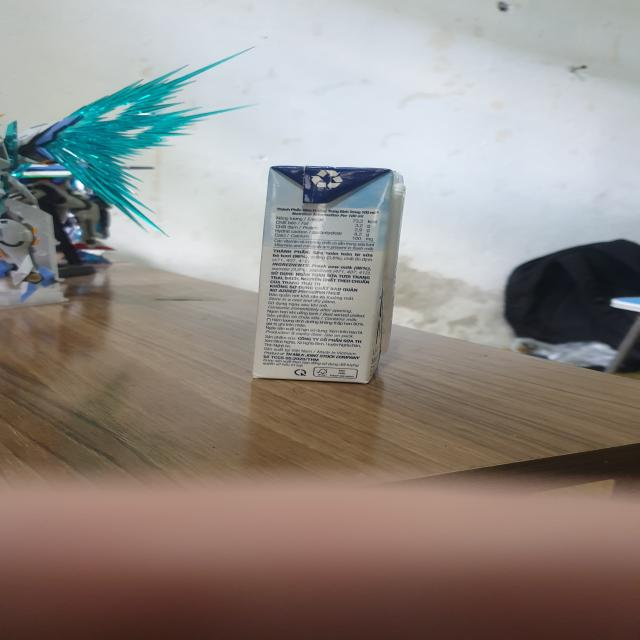TH: (247, 164, 399, 382)
